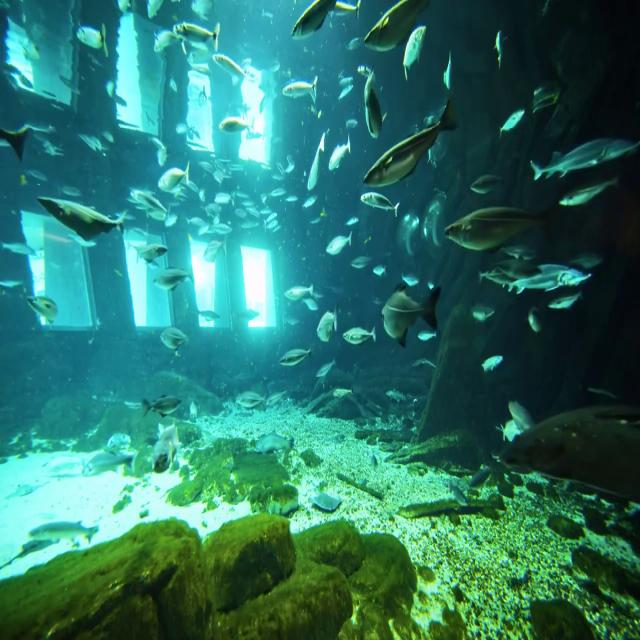fish: (366, 94, 456, 190), (443, 196, 559, 250), (529, 137, 640, 186), (38, 197, 126, 244), (380, 287, 442, 345), (366, 0, 423, 48), (506, 265, 594, 295), (316, 304, 338, 344), (342, 324, 378, 346)
